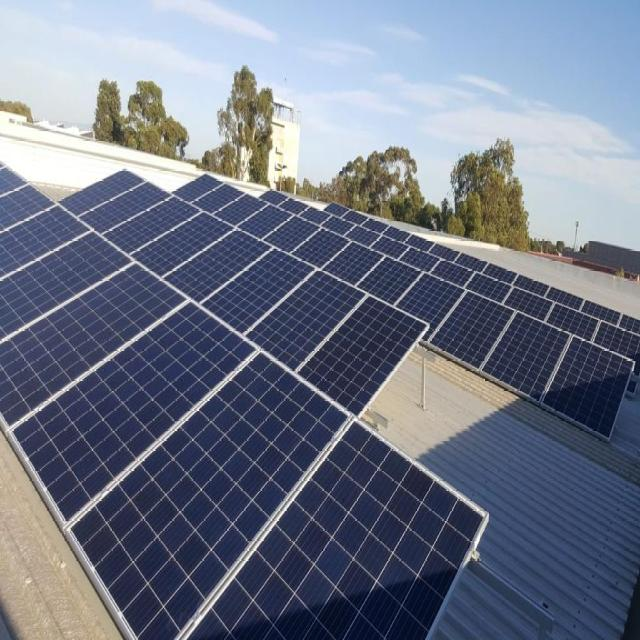clean-solar-panel: (0, 180, 485, 638), (177, 176, 640, 438), (71, 171, 425, 413)
